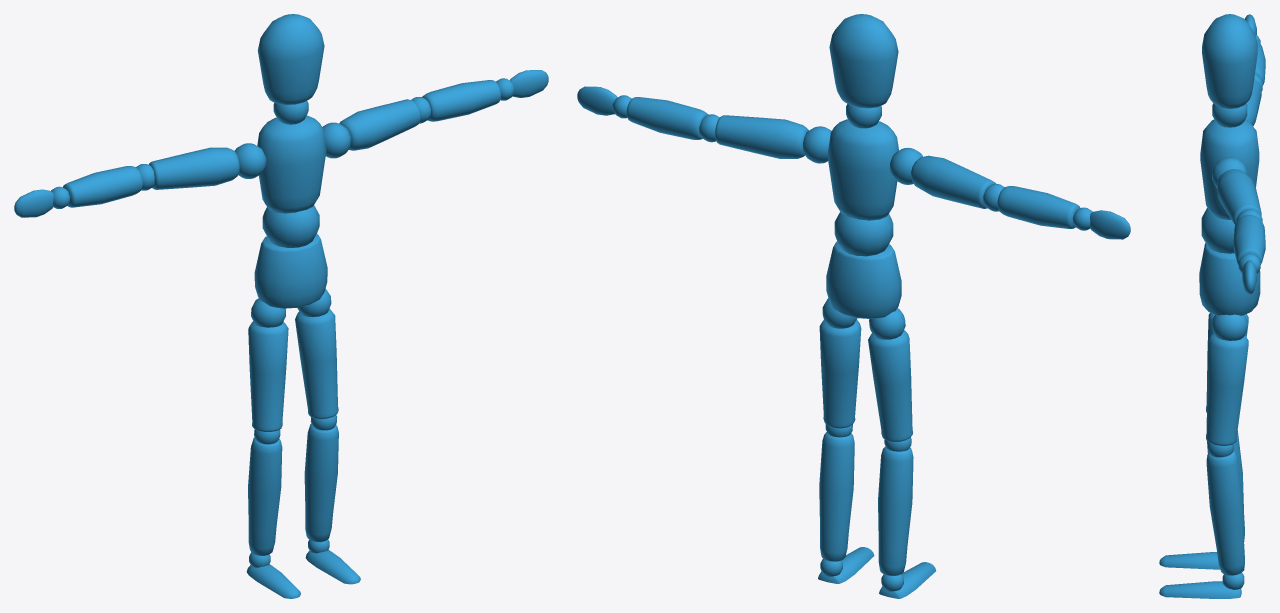
The model's file is person_01.gltf.
The picture shows the model from 3 angles, left to right: view 1: azimuth 30°, elevation 25°; view 2: azimuth 150°, elevation 25°; view 3: azimuth 270°, elevation 25°; orthographic projection. The views are drawn at different scales.
Parts seen in each view (by area): view 1: Figure.1; view 2: Figure.1; view 3: Figure.1.
Part boxes in pixels (left/top/right/bottom): Figure.1: left=14, top=14, right=548, bottom=598; Figure.1: left=577, top=14, right=1130, bottom=598; Figure.1: left=1159, top=14, right=1265, bottom=598.
Bounding box in the file's own units: 183 × 180 × 30.94.
